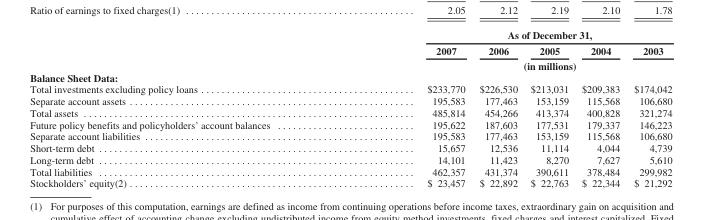table: (29, 28, 671, 188)
table column: (29, 28, 347, 188), (347, 28, 471, 188), (471, 28, 523, 188), (574, 28, 626, 188), (523, 28, 574, 188), (626, 28, 671, 188)
table column header: (29, 28, 671, 71)
table projected row header: (29, 71, 671, 83)
table row: (29, 42, 671, 57), (29, 28, 671, 42), (29, 57, 671, 71), (29, 71, 671, 83), (29, 94, 671, 106), (29, 106, 671, 118), (29, 118, 671, 130), (29, 141, 671, 153), (29, 153, 671, 165), (29, 165, 671, 177), (29, 83, 671, 94), (29, 130, 671, 141), (29, 177, 671, 188)
table spanning cell: (347, 28, 671, 42), (347, 57, 671, 71)
